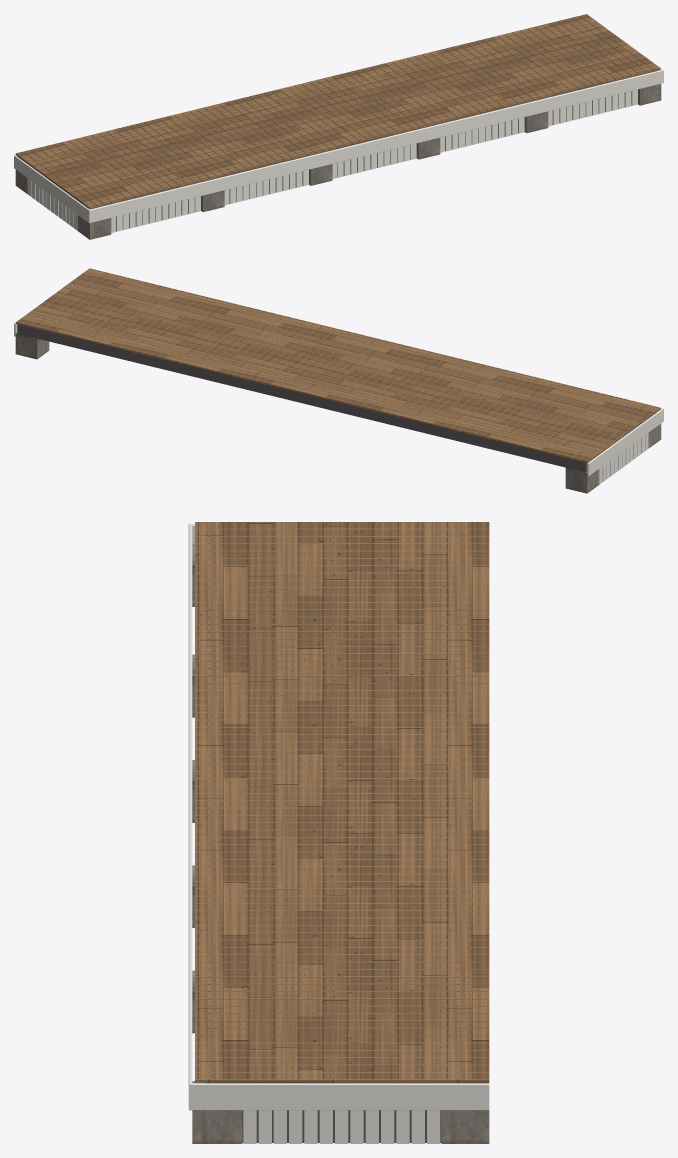
Rendered from porch_deck.glb.
3 renders of one model, top to bottom at view 1: azimuth 30°, elevation 25°; view 2: azimuth 150°, elevation 25°; view 3: azimuth 270°, elevation 25°, orthographic. The views are drawn at different scales.
Visible parts, largest first — view 1: porch_deck_deck, porch_deck_trim, porch_deck_stone, porch_deck_dark; view 2: porch_deck_deck, porch_deck_dark, porch_deck_trim, porch_deck_stone; view 3: porch_deck_deck, porch_deck_trim, porch_deck_stone, porch_deck_dark.
Boxes of the visible parts, box(x1,y1,x2,y2) form: porch_deck_deck: box(15, 14, 660, 208); porch_deck_trim: box(14, 68, 663, 232); porch_deck_stone: box(15, 84, 661, 239); porch_deck_dark: box(17, 71, 655, 230); porch_deck_deck: box(15, 268, 660, 462); porch_deck_dark: box(17, 324, 655, 472); porch_deck_trim: box(14, 322, 663, 484); porch_deck_stone: box(15, 332, 661, 493); porch_deck_deck: box(195, 522, 489, 1082); porch_deck_trim: box(188, 523, 489, 1143); porch_deck_stone: box(192, 544, 489, 1143); porch_deck_dark: box(206, 1082, 488, 1142).
Bounding box in the file's own units: 10.66 × 0.57 × 2.41.
4 materials, 2 textured.
